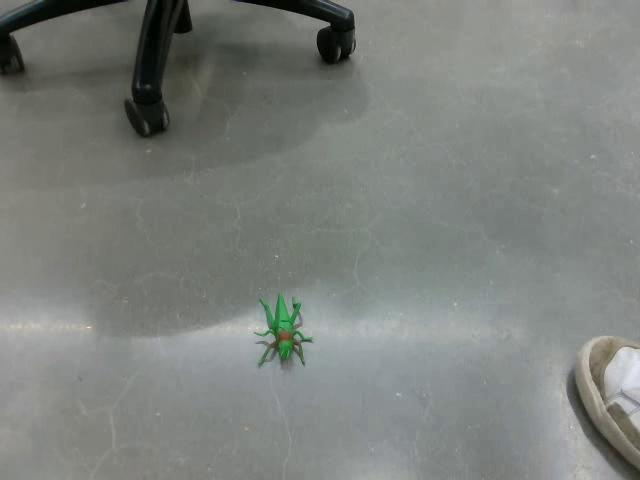grasshopper: (252, 291, 313, 369)
